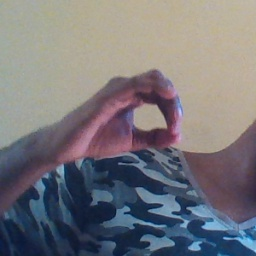O: (66, 67, 188, 159)
